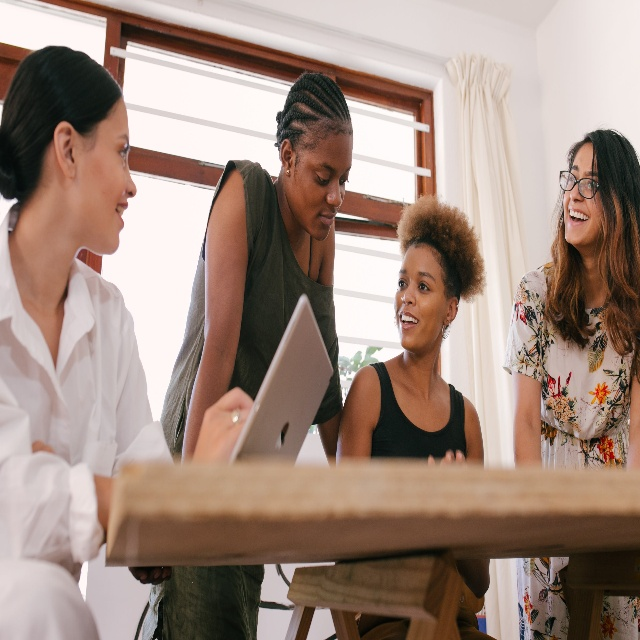Gafas: (559, 169, 599, 198)
Sin_guantes: (193, 387, 255, 462), (128, 565, 171, 587)
